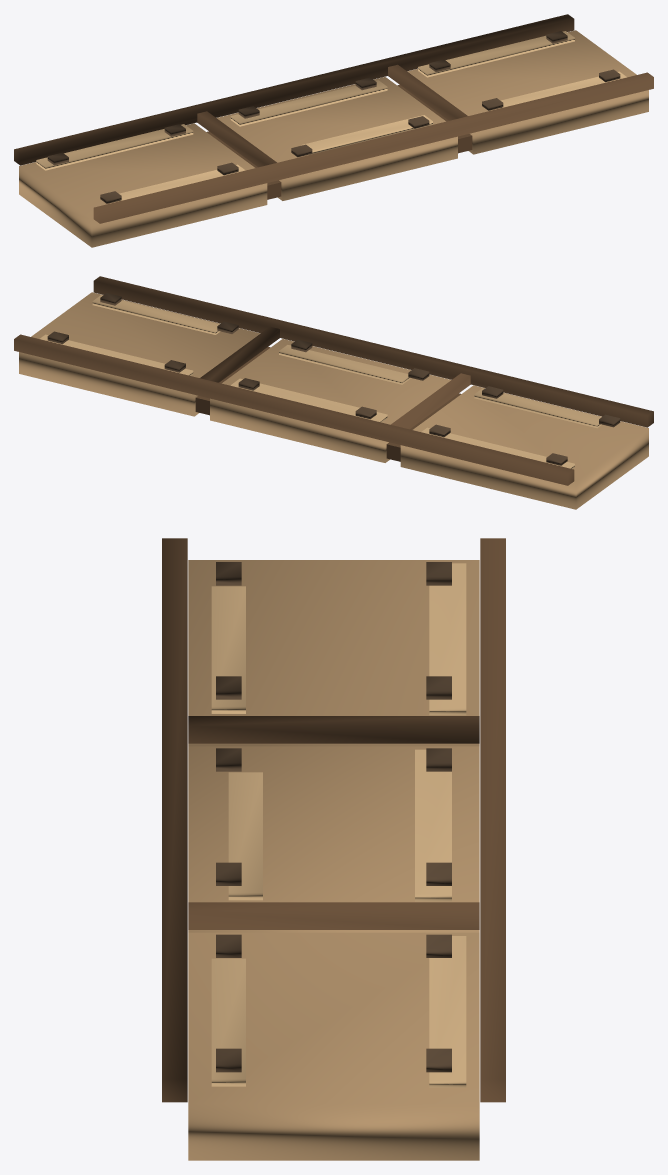
File: boardwalk_segment.glb
3 renders of one model, top to bottom at view 1: azimuth 30°, elevation 25°; view 2: azimuth 150°, elevation 25°; view 3: azimuth 270°, elevation 25°, orthographic. The views are drawn at different scales.
Visible parts, largest first — view 1: boardwalk_segment__surf_wood_plank; view 2: boardwalk_segment__surf_wood_plank; view 3: boardwalk_segment__surf_wood_plank.
Part boxes in pixels (x1,y1,x2,y2): boardwalk_segment__surf_wood_plank: [14, 14, 653, 247]; boardwalk_segment__surf_wood_plank: [14, 276, 653, 509]; boardwalk_segment__surf_wood_plank: [162, 538, 505, 1160].
Size of the model in its own units: 0.905 by 0.062 by 0.242.
